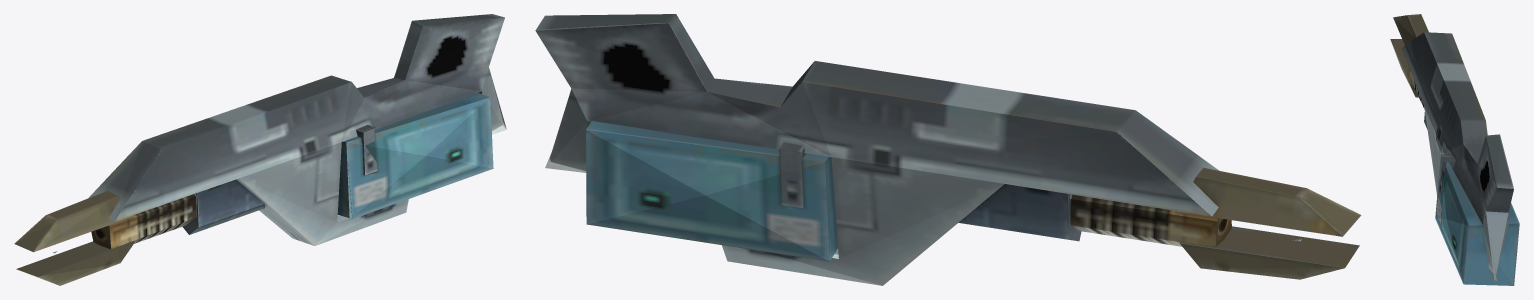
File: SHOSEGUN_H.obj
3 views of the same model, side by side, from view 1: azimuth 30°, elevation 25°; view 2: azimuth 150°, elevation 25°; view 3: azimuth 270°, elevation 25° (orthographic). The views are drawn at different scales.
Visible parts, largest first — view 1: Node 0; view 2: Node 0; view 3: Node 0.
Part boxes in pixels (box(x1,y1,x2,y2)): Node 0: box(14, 14, 506, 285); Node 0: box(535, 14, 1361, 285); Node 0: box(1390, 14, 1519, 285).
Size of the model in its own units: 1.87 by 0.57 by 0.46.
2 materials, 2 textured.
